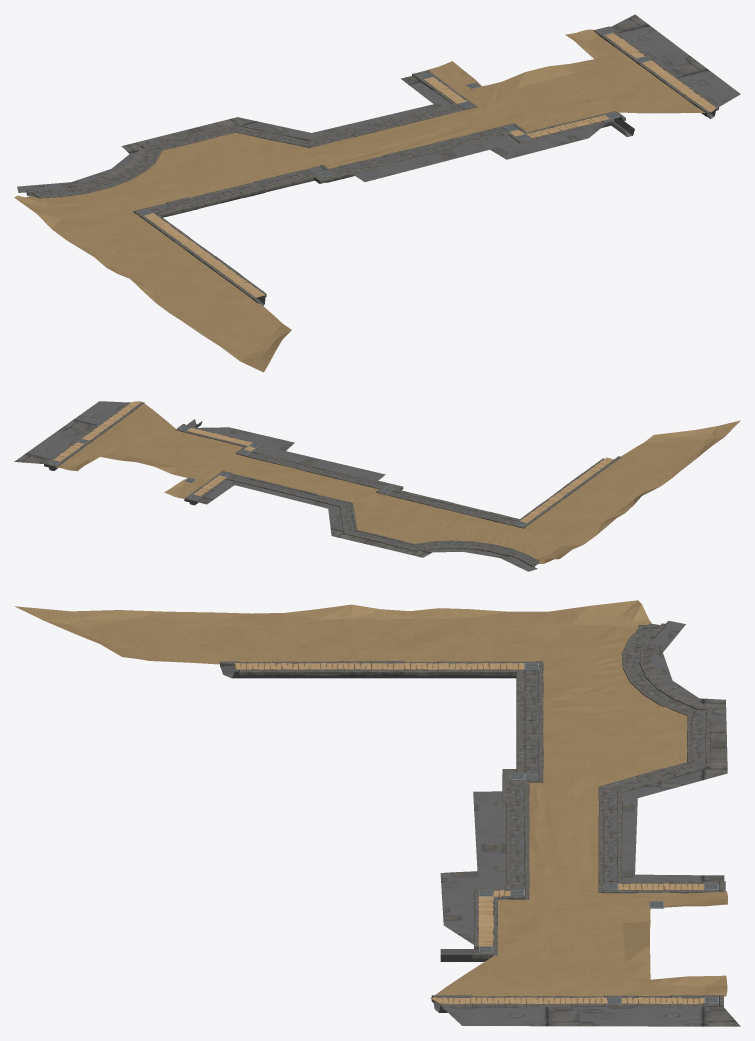
Rendered from SM_ENV_KNVLLG_ground_07.fbx.
3 renders of one model, top to bottom at view 1: azimuth 30°, elevation 25°; view 2: azimuth 150°, elevation 25°; view 3: azimuth 270°, elevation 25°, orthographic. The views are drawn at different scales.
Parts seen in each view (by area): view 1: SM_ENV_KNVLLG_ground_07.mo; view 2: SM_ENV_KNVLLG_ground_07.mo; view 3: SM_ENV_KNVLLG_ground_07.mo.
Boxes of the visible parts, box(x1,y1,x2,y2) form: SM_ENV_KNVLLG_ground_07.mo: box(14, 14, 740, 372); SM_ENV_KNVLLG_ground_07.mo: box(14, 401, 740, 571); SM_ENV_KNVLLG_ground_07.mo: box(15, 600, 740, 1026).
Size of the model in its own units: 13692 by 293 by 10086.
